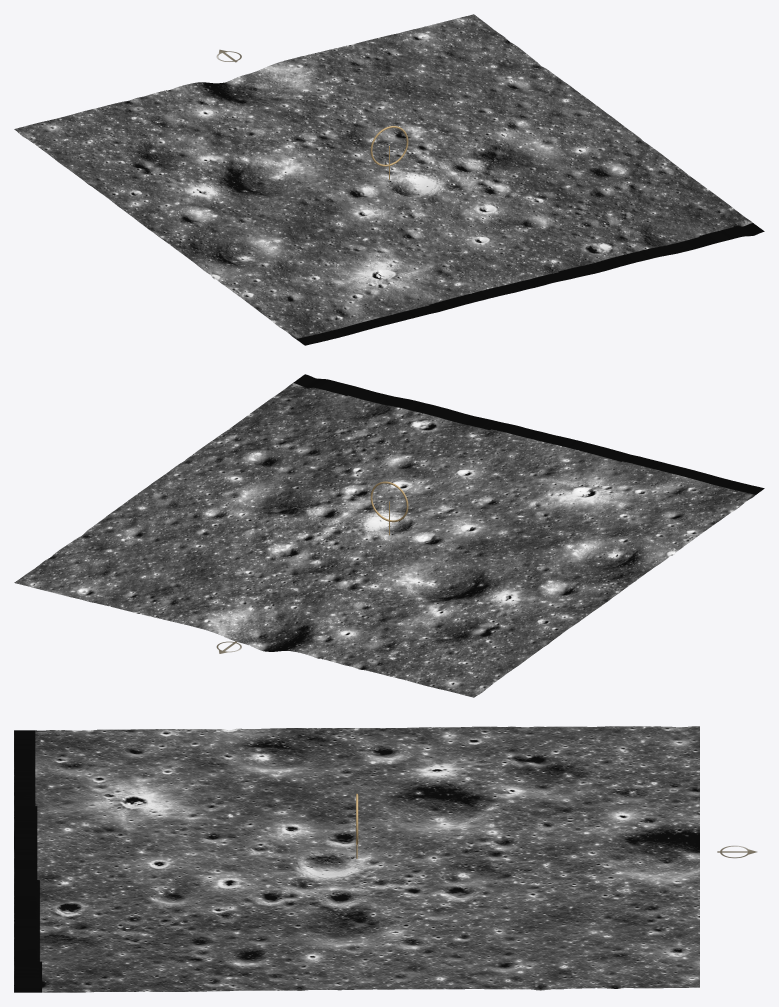
The model's file is Apollo12_Oceanus_Procellarum_MKI.glb.
3 renders of one model, top to bottom at view 1: azimuth 30°, elevation 25°; view 2: azimuth 150°, elevation 25°; view 3: azimuth 270°, elevation 25°, orthographic. The views are drawn at different scales.
Parts seen in each view (by area): view 1: Apollo12_Oceanus_Procellarum; view 2: Apollo12_Oceanus_Procellarum; view 3: Apollo12_Oceanus_Procellarum.
Part boxes in pixels (box(x1,y1,x2,y2)): Apollo12_Oceanus_Procellarum: box(14, 14, 764, 345); Apollo12_Oceanus_Procellarum: box(14, 374, 764, 697); Apollo12_Oceanus_Procellarum: box(14, 726, 699, 992).
Bounding box in the file's own units: 2168 × 263 × 2601.
3 materials, 2 textured.
